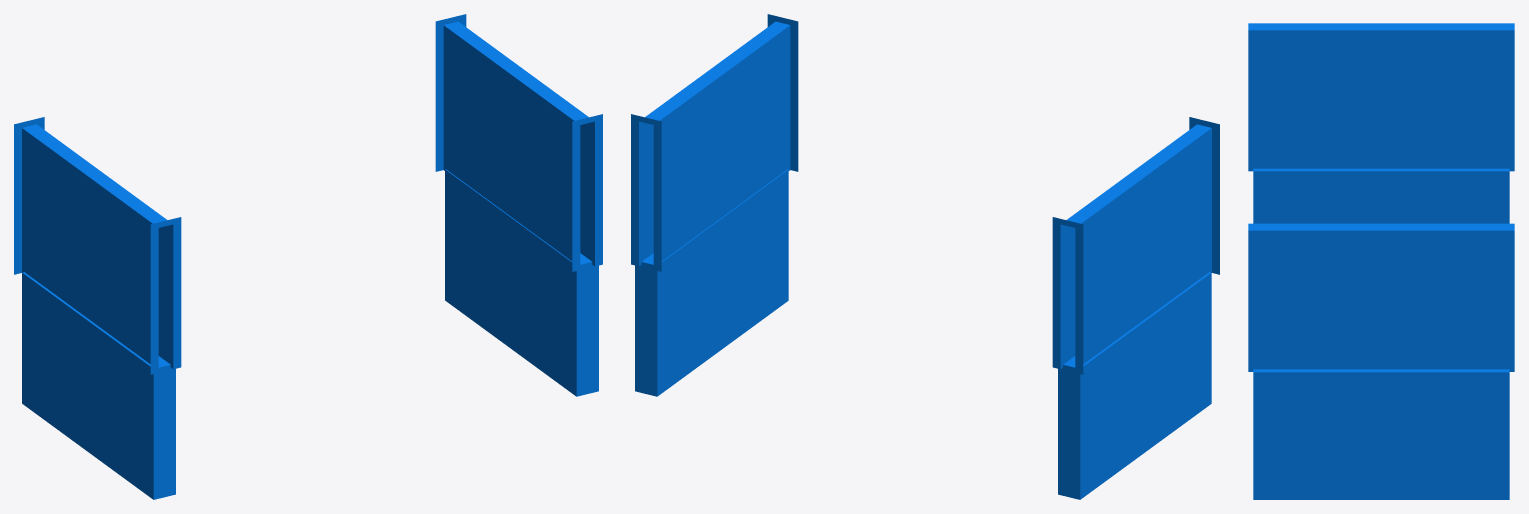
Rendered from Door.fbx.
3 renders of one model, left to right at view 1: azimuth 30°, elevation 25°; view 2: azimuth 150°, elevation 25°; view 3: azimuth 270°, elevation 25°, orthographic. The views are drawn at different scales.
Visible parts, largest first — view 1: Frame1, Frame2, Door2, Door; view 2: Frame1, Frame2, Door2, Door; view 3: Frame1, Frame2, Door, Door2.
Part boxes in pixels (left/top/right/bottom): Frame1: left=435, top=14, right=602, bottom=271; Frame2: left=14, top=117, right=181, bottom=374; Door2: left=22, top=272, right=175, bottom=499; Door: left=445, top=169, right=598, bottom=396; Frame1: left=631, top=14, right=798, bottom=271; Frame2: left=1052, top=117, right=1219, bottom=374; Door2: left=1058, top=272, right=1211, bottom=499; Door: left=635, top=169, right=788, bottom=396; Frame1: left=1248, top=223, right=1514, bottom=371; Frame2: left=1248, top=23, right=1514, bottom=171; Door: left=1253, top=369, right=1509, bottom=499; Door2: left=1253, top=168, right=1509, bottom=223.
Bounding box in the file's own units: 4253 × 2506 × 2225.
